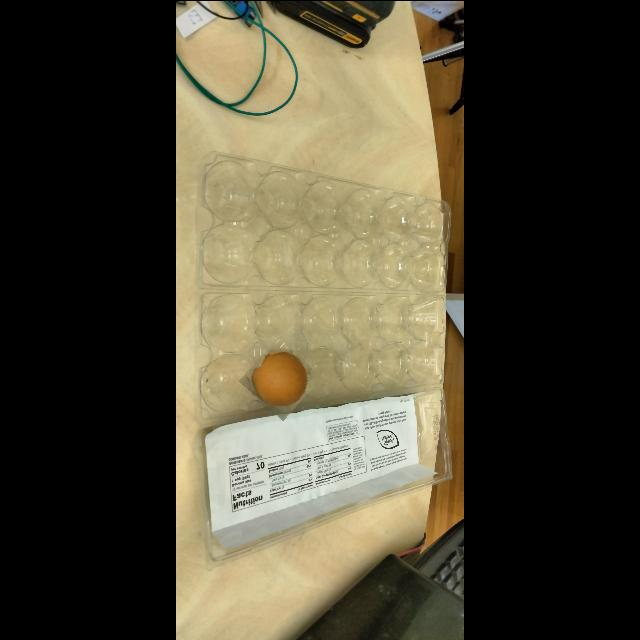Egg: (246, 340, 318, 414)
